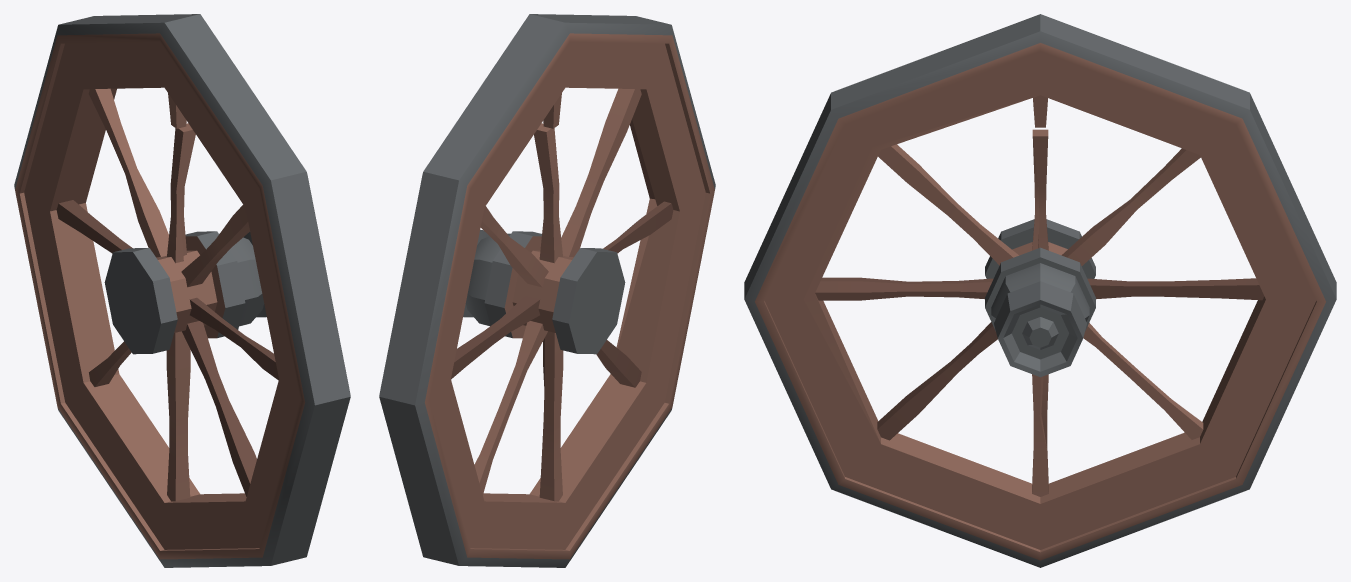
File: SM_Wooden_Cart_Wheel.fbx
3 views of the same model, side by side, from view 1: azimuth 30°, elevation 25°; view 2: azimuth 150°, elevation 25°; view 3: azimuth 270°, elevation 25° (orthographic).
Visible parts, largest first — view 1: Wooden_Cart_Wheel; view 2: Wooden_Cart_Wheel; view 3: Wooden_Cart_Wheel.
Boxes of the visible parts, x1=… form: Wooden_Cart_Wheel: x1=14, y1=14, x2=350, y2=567; Wooden_Cart_Wheel: x1=379, y1=14, x2=715, y2=567; Wooden_Cart_Wheel: x1=744, y1=14, x2=1336, y2=567.
Bounding box in the file's own units: 59.99 × 210 × 210.
